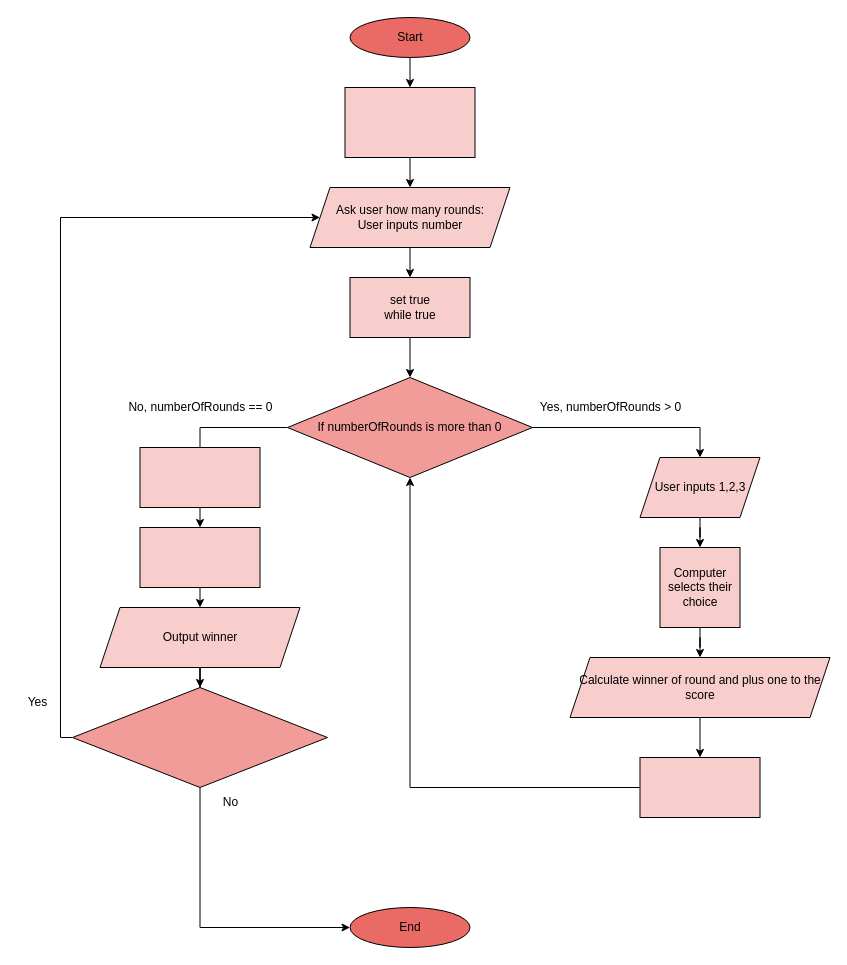
Image size: 847x965. Some labels were removed from this diagram. Here are the shapes that lost their labels. From the top down, the centre of each, then its label:
pixel 409 122: Initialise Variables: userWins computerWins drawWins numberOfRounds
pixel 199 477: set false
pixel 199 557: Calculate overall winner
pixel 200 737: Ask if user wants to play more rounds
pixel 699 787: -1 to the numberOfRounds
